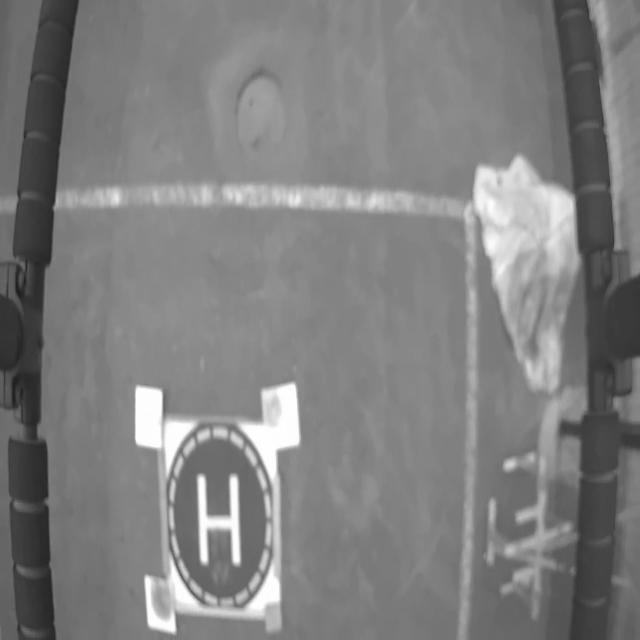Helipad: (197, 473, 240, 566)
